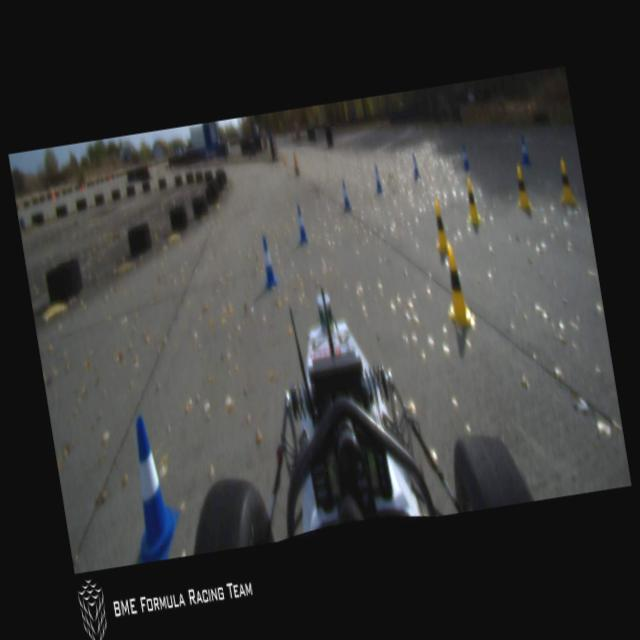blue_cone: (118, 414, 186, 564), (258, 234, 278, 288), (294, 203, 308, 244), (340, 178, 352, 212), (372, 164, 383, 193), (519, 136, 530, 164), (410, 154, 420, 178), (461, 146, 470, 170)
yellow_cone: (438, 245, 476, 329), (556, 156, 578, 208), (462, 177, 482, 225), (430, 200, 448, 252), (512, 163, 531, 210)
